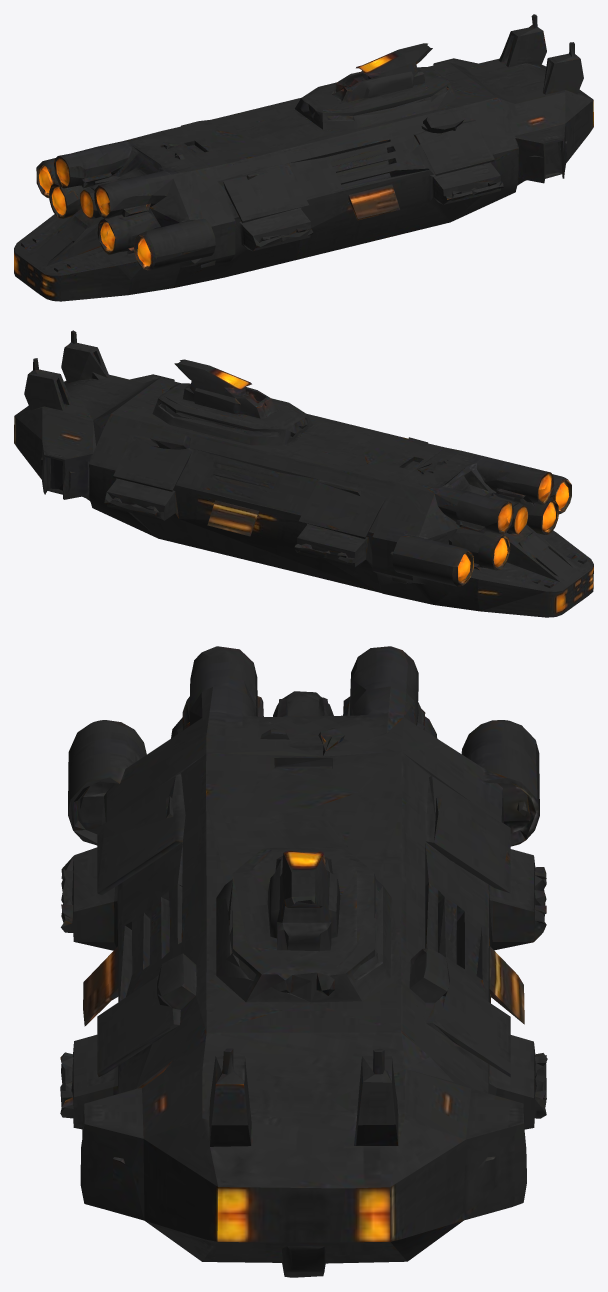
Rendered from nation-t-cruiser.glb.
The picture shows the model from 3 angles, top to bottom: view 1: azimuth 30°, elevation 25°; view 2: azimuth 150°, elevation 25°; view 3: azimuth 270°, elevation 25°; orthographic projection. The views are drawn at different scales.
Size of the model in its own units: 1.9 by 0.4901 by 0.7375.
Materials: 1 (1 with a texture image).
